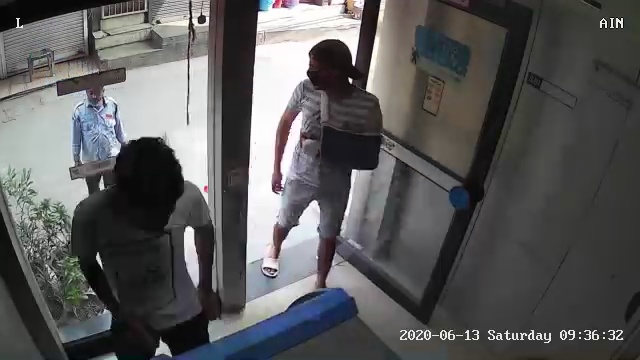open: (190, 7, 542, 323)
